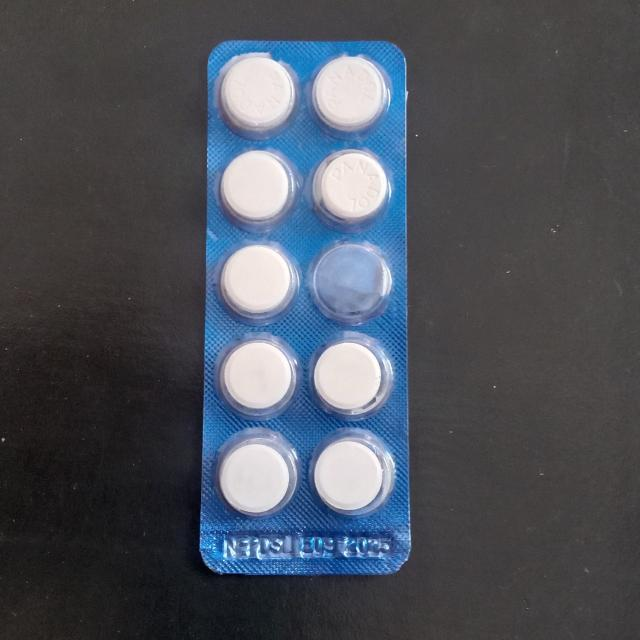defect: (309, 242, 393, 326)
